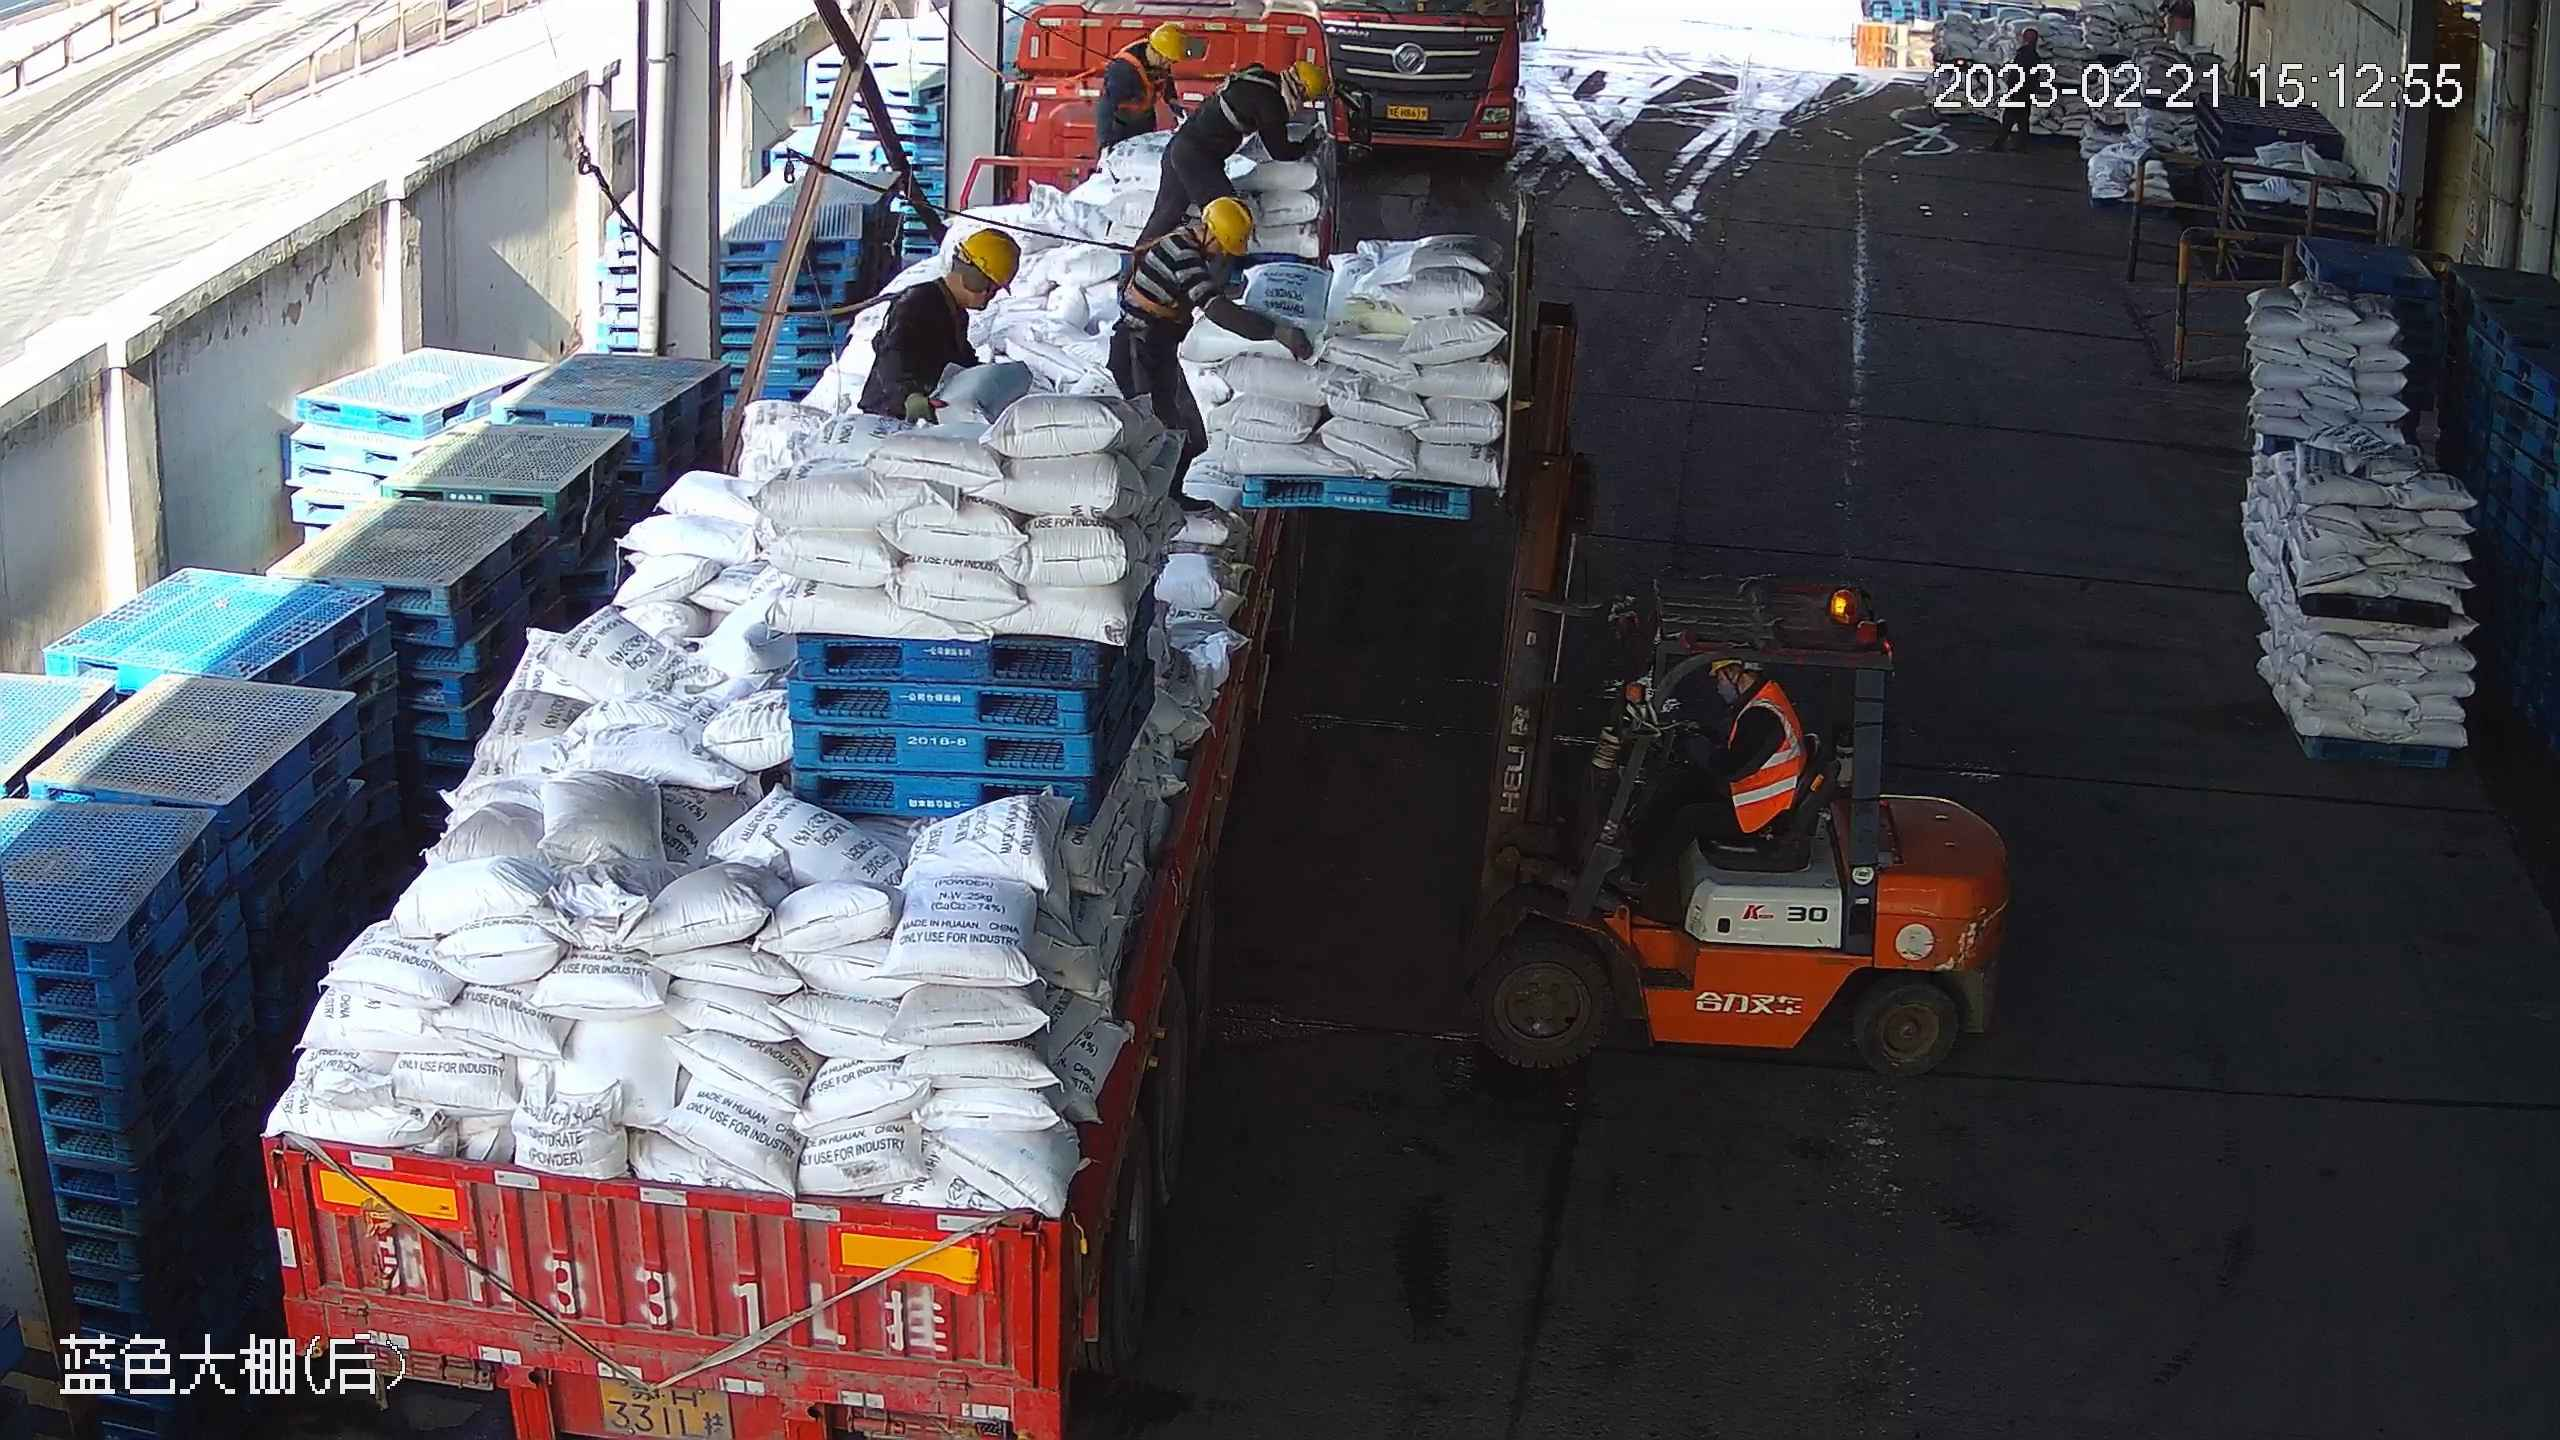belt: (883, 278, 970, 355), (1121, 229, 1193, 319), (1095, 38, 1168, 113), (1213, 67, 1280, 135)
head: (883, 226, 1022, 342), (1147, 195, 1252, 284), (1231, 60, 1322, 124), (1106, 21, 1189, 83)
helmet: (960, 227, 1022, 295), (1200, 196, 1253, 255), (1148, 21, 1187, 60), (1295, 57, 1324, 100)
people: (1106, 194, 1316, 514), (1610, 657, 1809, 897), (1133, 58, 1322, 252), (1094, 22, 1188, 161)
truck: (258, 1, 1374, 1440), (1322, 1, 1517, 153)
